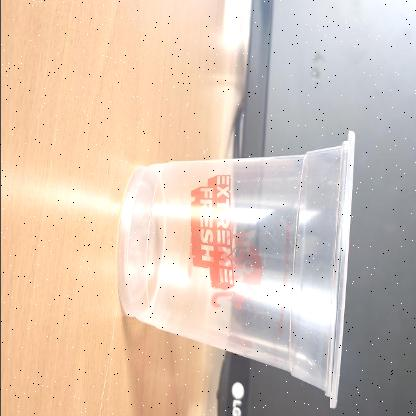Others: (116, 131, 356, 410)
